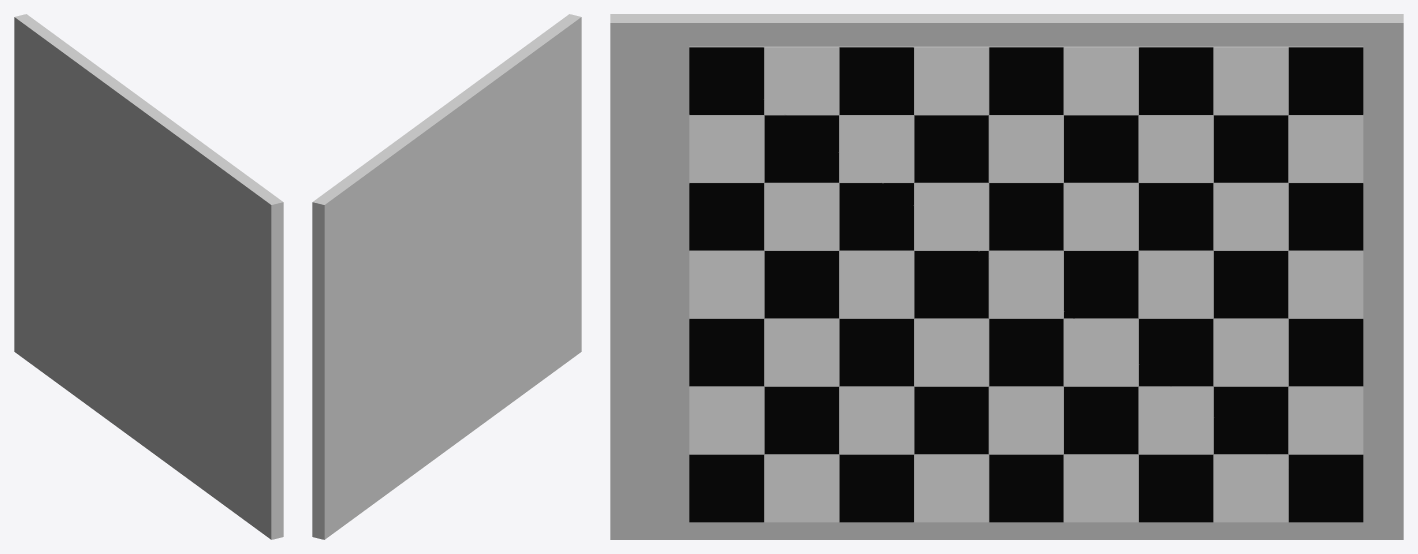
The model's file is camcalib_pattern_grid.dae.
3 renders of one model, left to right at view 1: azimuth 30°, elevation 25°; view 2: azimuth 150°, elevation 25°; view 3: azimuth 270°, elevation 25°, orthographic. The views are drawn at different scales.
Visible parts, largest first — view 1: camcalib_pattern_grid; view 2: camcalib_pattern_grid; view 3: camcalib_pattern_grid.
Boxes of the visible parts, x1,y1,x2,y2 form: camcalib_pattern_grid: [14, 14, 283, 539]; camcalib_pattern_grid: [312, 14, 581, 539]; camcalib_pattern_grid: [610, 14, 1403, 539].
Size of the model in its own units: 0.016 by 0.551 by 0.396.
2 materials, 1 textured.
